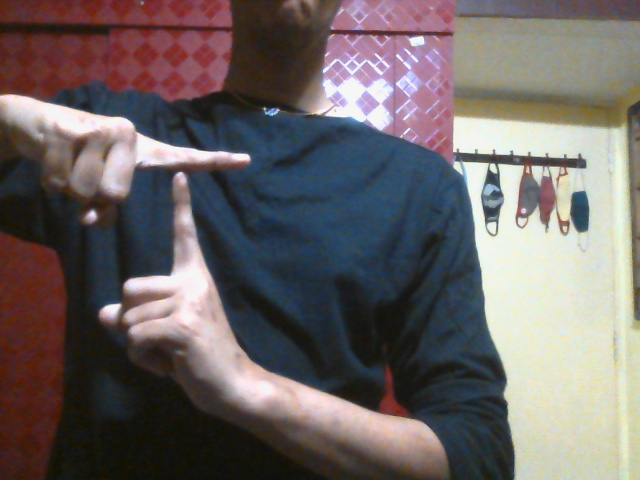T: (22, 96, 253, 428)
